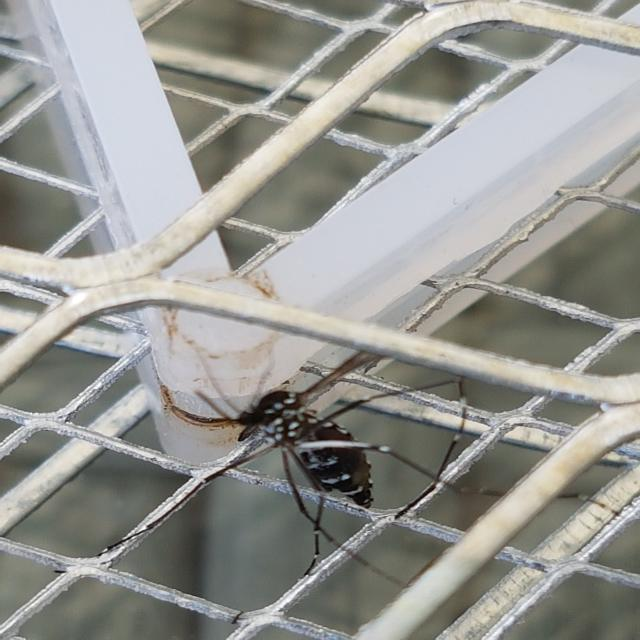albopictus: (16, 246, 585, 616)
